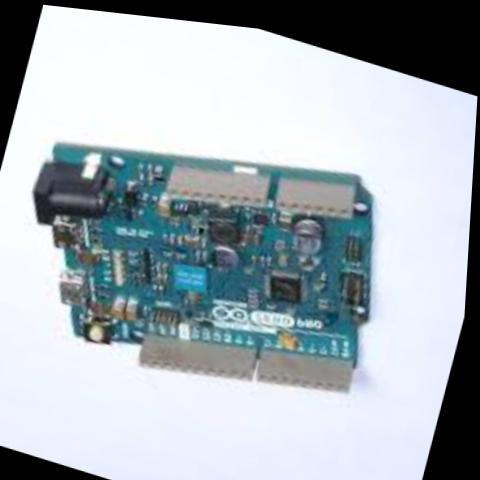Arduino-Zero: (2, 52, 433, 459)
